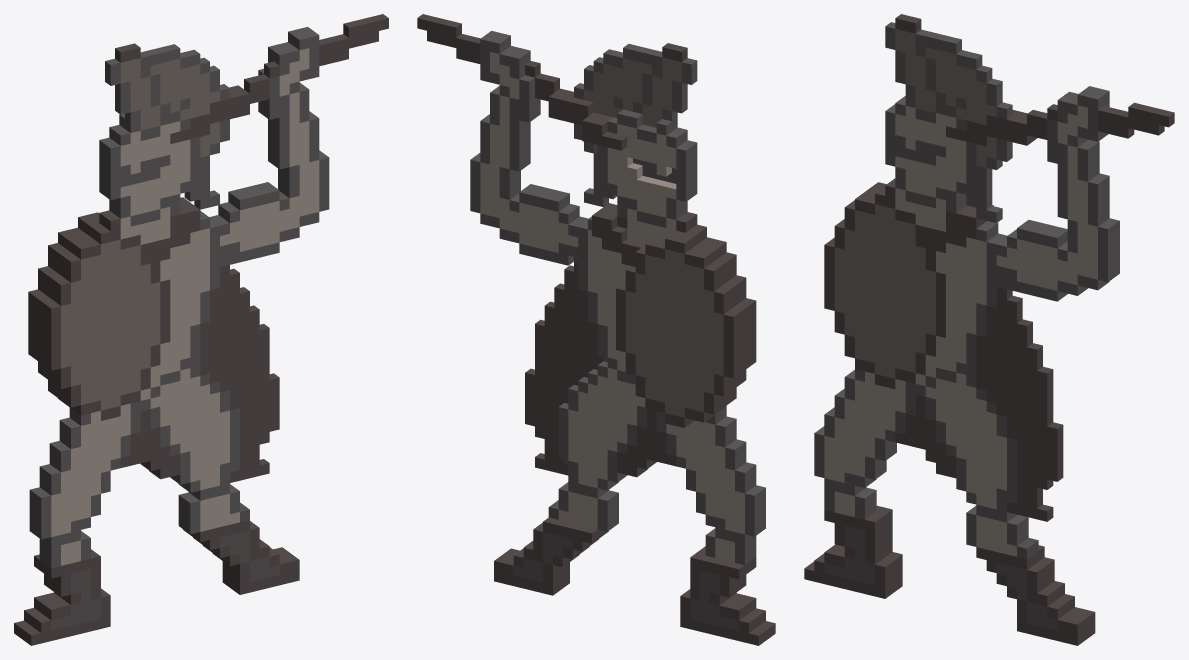
Rendered from LeonidasSculpture.fbx.
The picture shows the model from 3 angles, left to right: view 1: azimuth 30°, elevation 25°; view 2: azimuth 150°, elevation 25°; view 3: azimuth 330°, elevation 25°; orthographic projection. The views are drawn at different scales.
Visible parts, largest first — view 1: generated; view 2: generated; view 3: generated.
Boxes of the visible parts, x1,y1,x2,y2 form: generated: (14, 14, 388, 645); generated: (417, 14, 775, 645); generated: (804, 14, 1174, 645).
Bounding box in the file's own units: 36 × 55 × 4.
